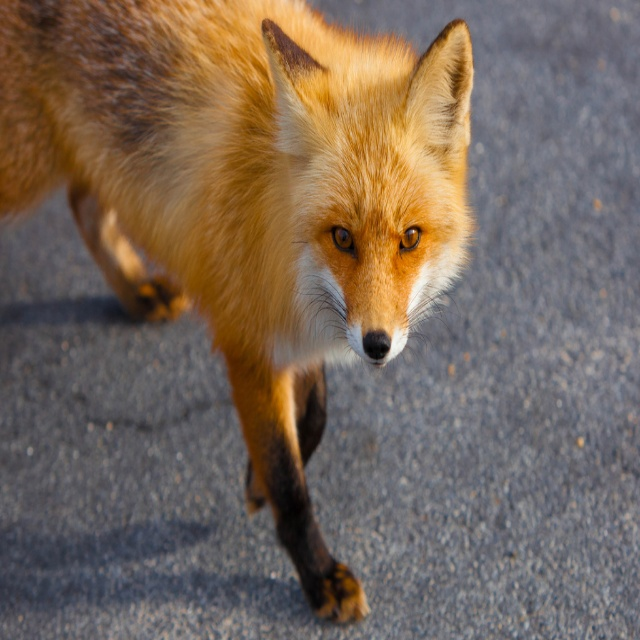Fox: (0, 0, 475, 628)
